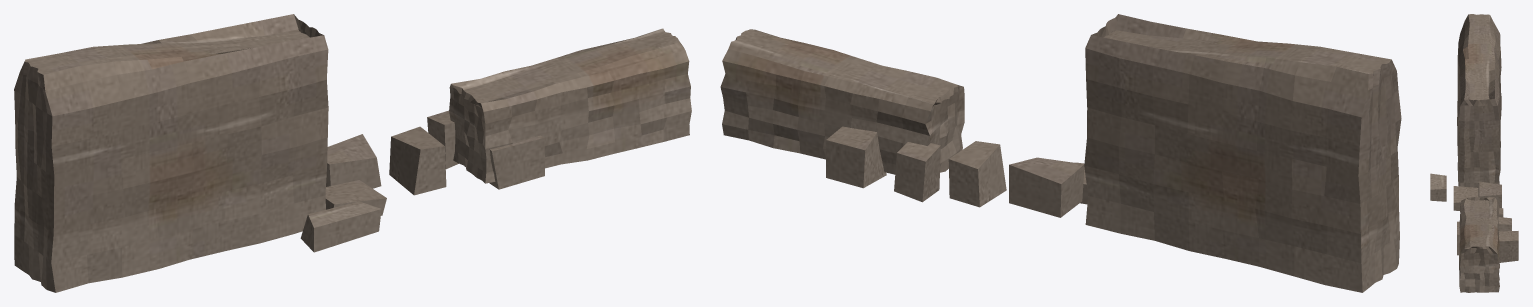
File: ruin.glb
The picture shows the model from 3 angles, left to right: view 1: azimuth 30°, elevation 25°; view 2: azimuth 150°, elevation 25°; view 3: azimuth 270°, elevation 25°; orthographic projection. The views are drawn at different scales.
Visible parts, largest first — view 1: ruin; view 2: ruin; view 3: ruin.
Part boxes in pixels (x1,y1,x2,y2): ruin: (14,14,691,292); ruin: (720,14,1401,292); ruin: (1430,14,1518,292).
Bounding box in the file's own units: 3.74 × 1.21 × 0.836.
Materials: 1 (1 with a texture image).
